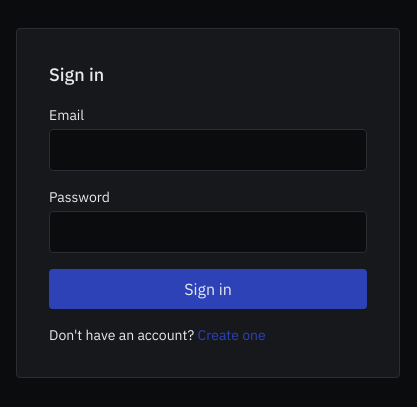
Test case: LoginPage › shows a validation error for an invalid email without calling login
Type "not-an-email" into the field labelled "Email" at [208, 150], box x1=49 y1=129 x2=367 y2=171
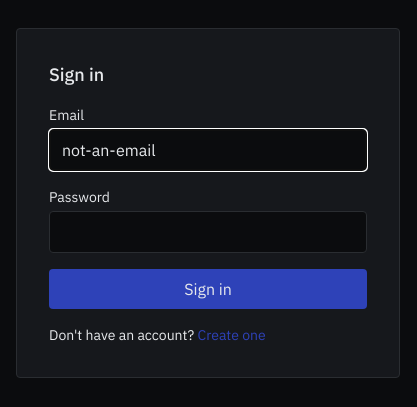
Type "password123" into the password field labelled "Password" at [208, 232], box x1=49 y1=211 x2=367 y2=253
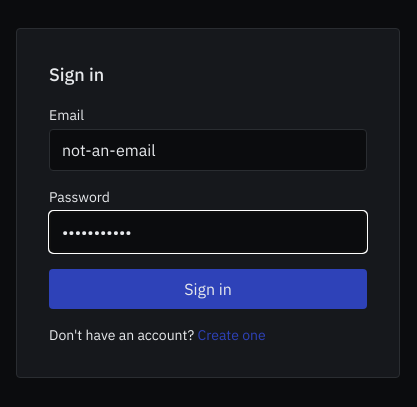
Click the button "Sign in" at [208, 289], box x1=49 y1=269 x2=367 y2=309
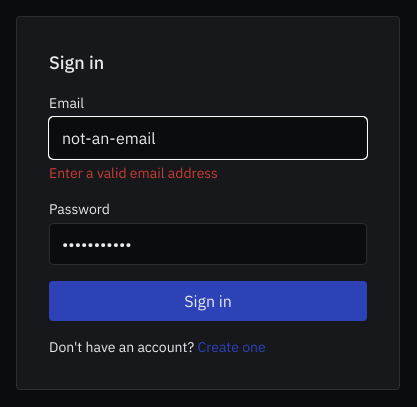
Expected: the text "Enter a valid email address" is shown, x1=49 y1=164 x2=218 y2=182
